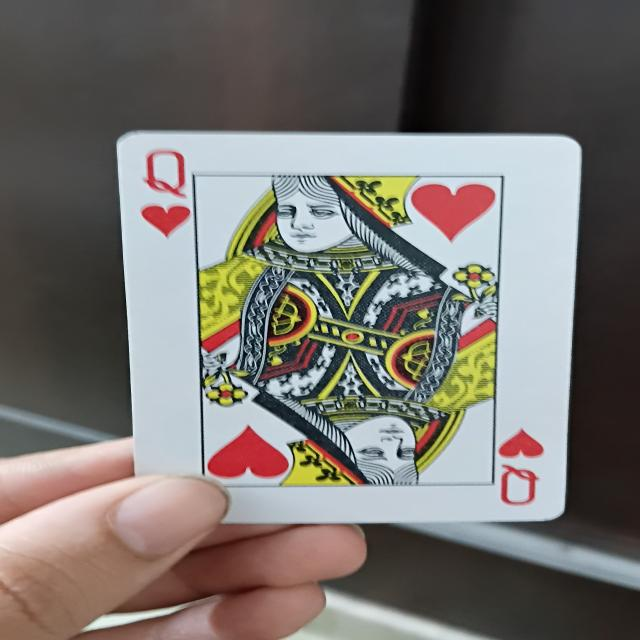QH: (126, 135, 572, 519)
